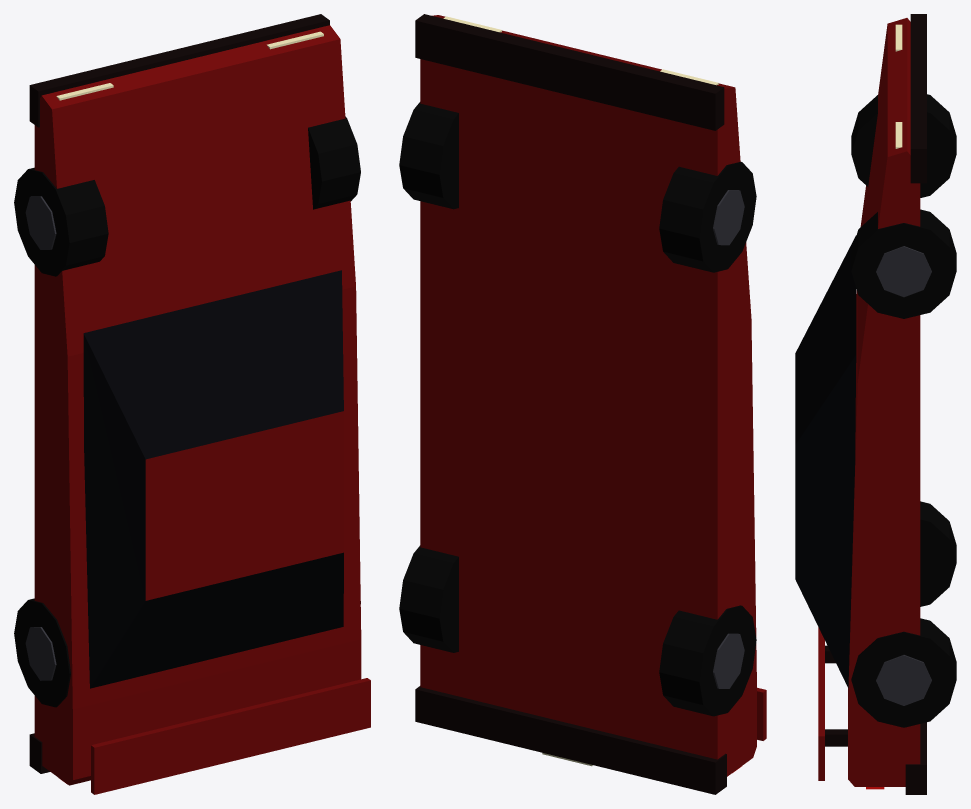
File: car.obj
3 views of the same model, side by side, from view 1: azimuth 30°, elevation 25°; view 2: azimuth 150°, elevation 25°; view 3: azimuth 270°, elevation 25° (orthographic). The views are drawn at different scales.
Visible parts, largest first — view 1: car; view 2: car; view 3: car.
Part boxes in pixels (<box>): car: <box>14,14,370,794</box>; car: <box>399,14,766,794</box>; car: <box>795,14,956,794</box>.
Bounding box in the file's own units: 1.96 × 4.35 × 0.98.
